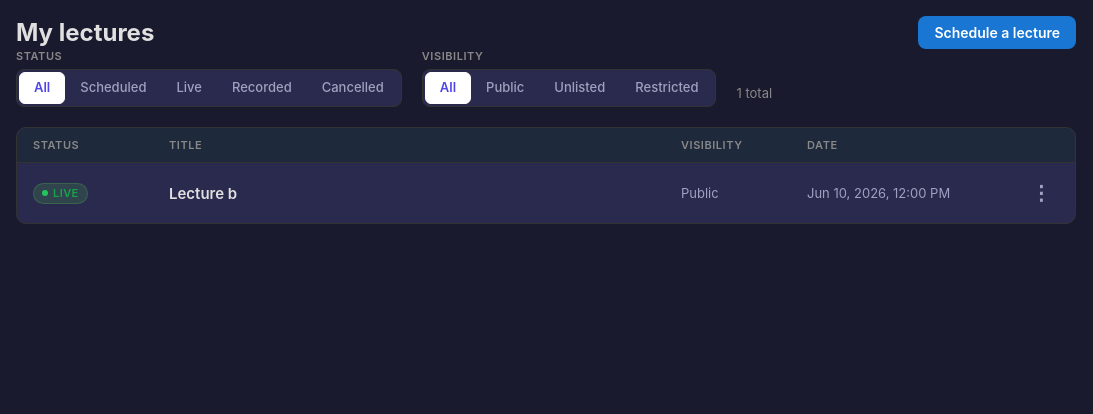
it: <MyLecturesPage> KS-3998: ⋮-меню по статусам › live: пункты Open / End broadcast / Settings / Copy link / Delete
Expected: the list with test id "my-lectures-list" is shown, [16,127,1076,224]
Click the button "⋮": point(1041, 193) [1023,175,1059,211]
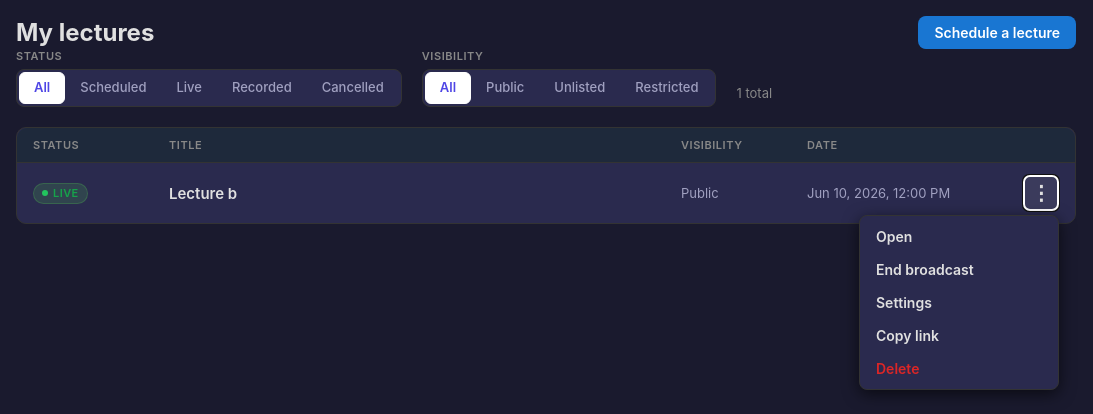
Expected: the menu item with test id "my-lectures-action-open-b" is shown, [864,220,1054,253]
Expected: the menu item with test id "my-lectures-action-force-end-b" is shown, [864,253,1054,286]
Expected: the menu item with test id "my-lectures-action-settings-b" is shown, [864,286,1054,319]
